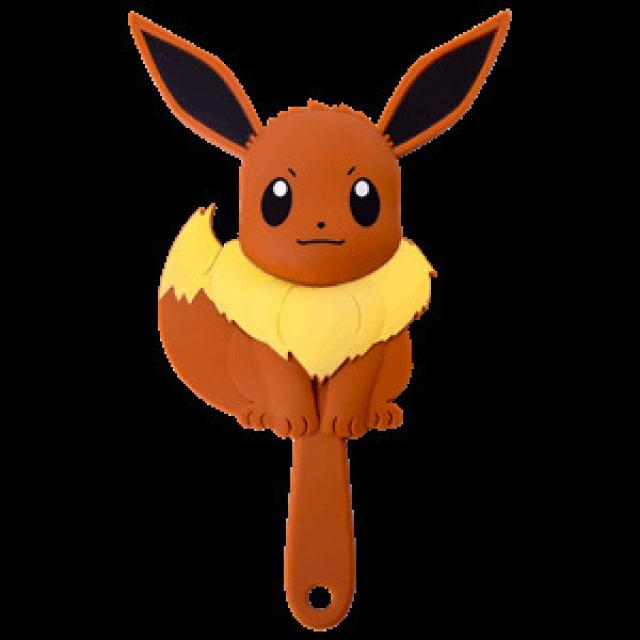Eevee: (161, 64, 454, 430)
